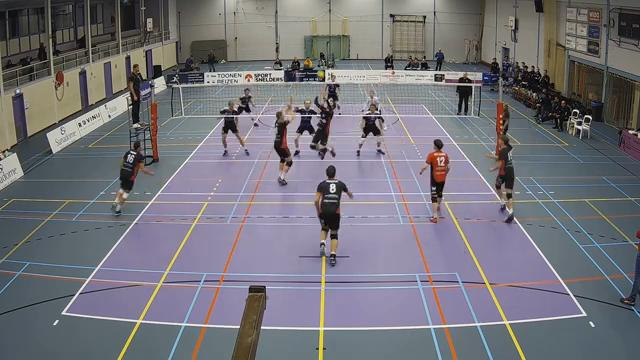alzata: (307, 93, 338, 160)
